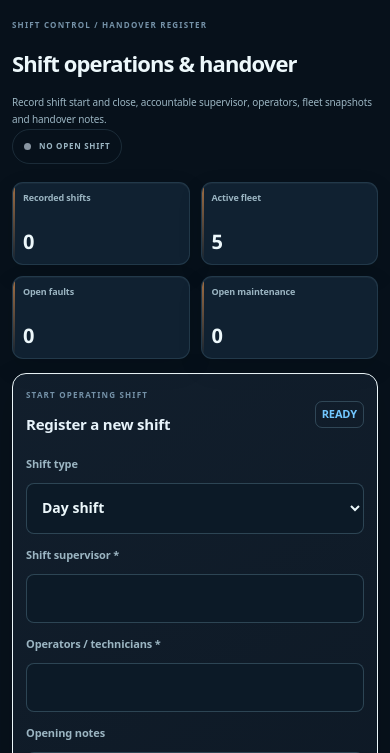
Test: Shift operations and handover › requires a supervisor and operators before starting a shift
Type "Shift Lead" into the field labelled "Shift supervisor *" at (195, 598), box top-left (26, 574), bottom-right (364, 623)
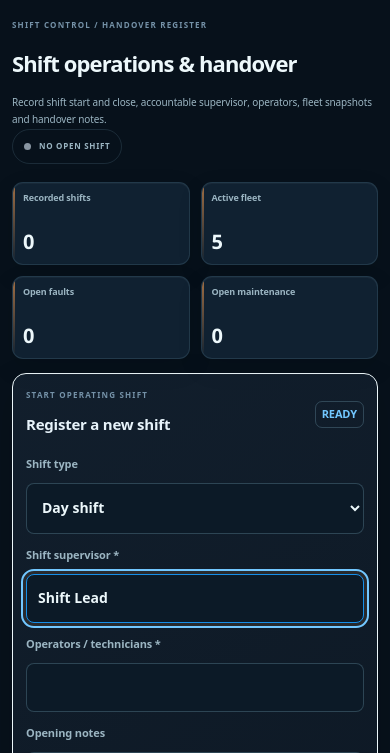
Type "Operator A, Technician B" into the field labelled "Operators / technicians *" at (195, 688), box top-left (26, 663), bottom-right (364, 712)
(page scrolled)
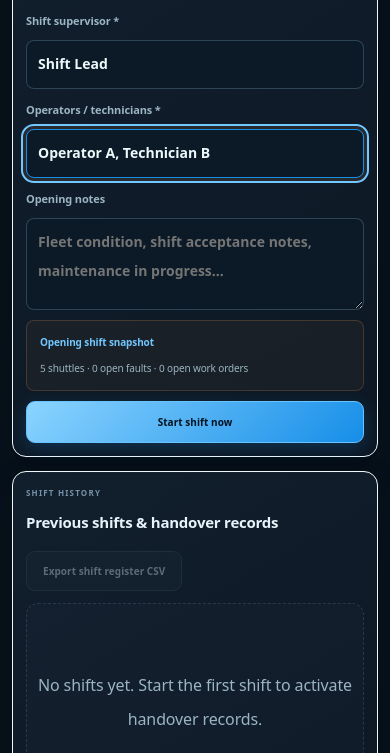
Expected: the button "Start shift now" is enabled, top-left (26, 401), bottom-right (364, 443)
